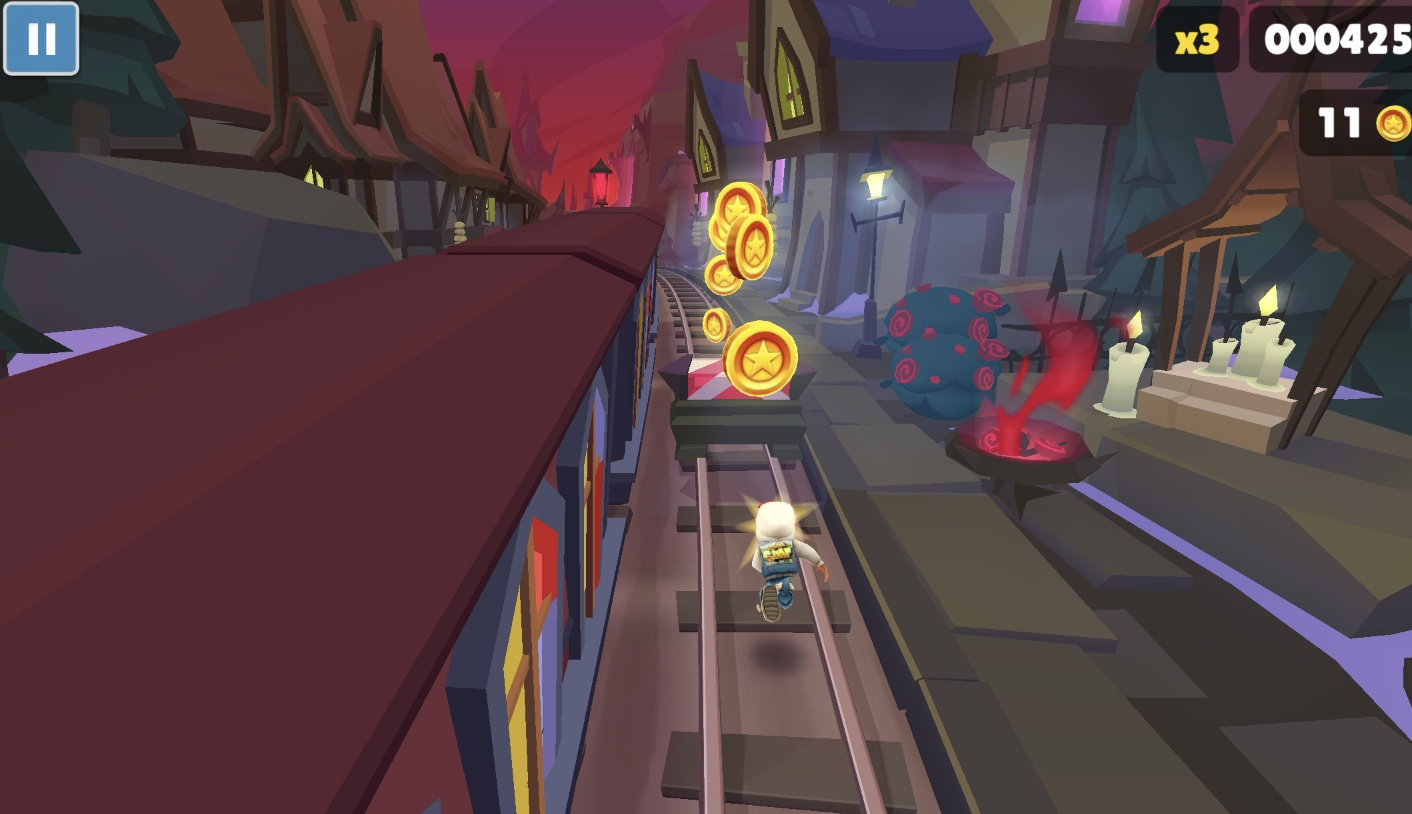ground_barrier: (657, 359, 810, 470)
train: (0, 208, 667, 814)
